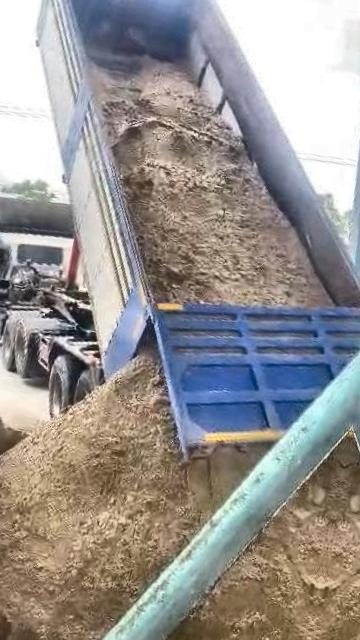sand: (0, 355, 258, 640), (92, 57, 331, 305), (143, 439, 350, 640), (0, 382, 23, 500)
